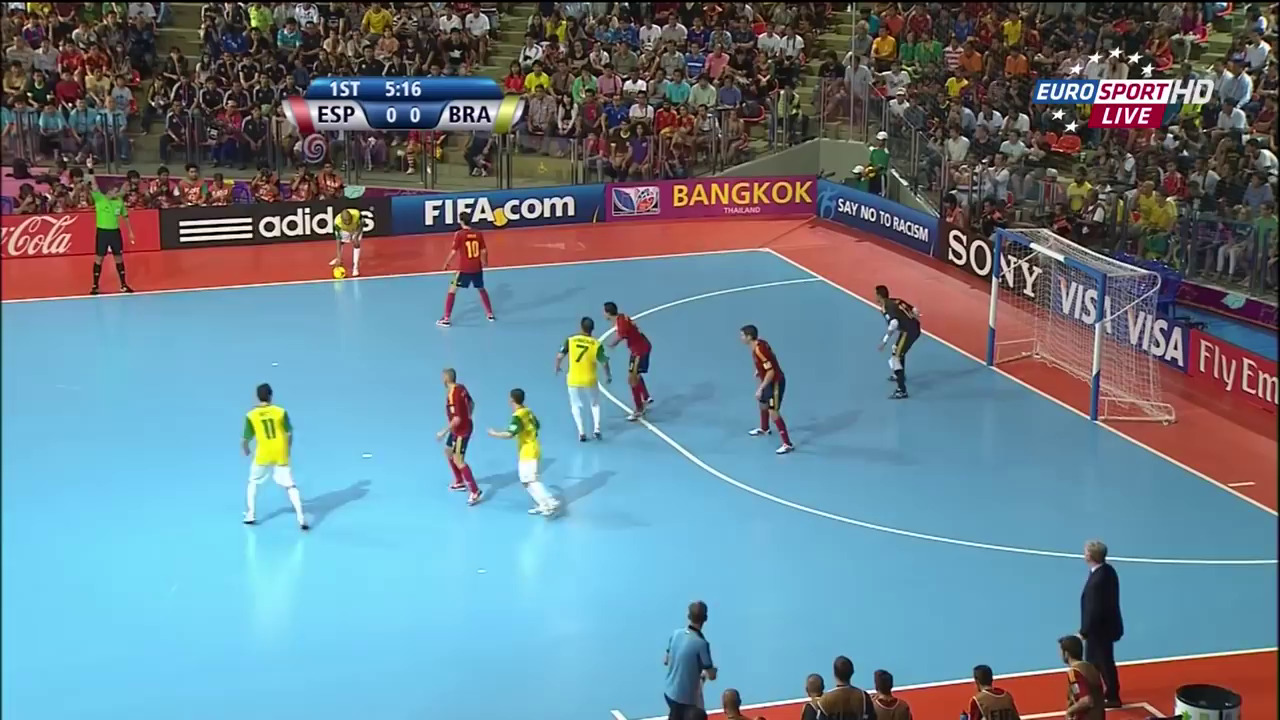ball: (330, 260, 346, 282)
person: (236, 383, 315, 529), (423, 360, 489, 508), (488, 380, 558, 517), (548, 313, 615, 444), (730, 327, 799, 452), (862, 284, 930, 401), (430, 211, 498, 325), (603, 298, 662, 424), (324, 207, 365, 269)
